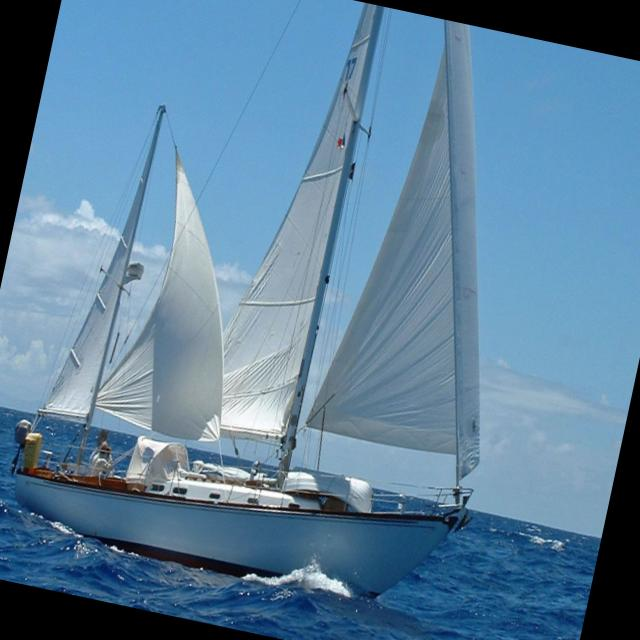boat: (0, 0, 583, 635)
